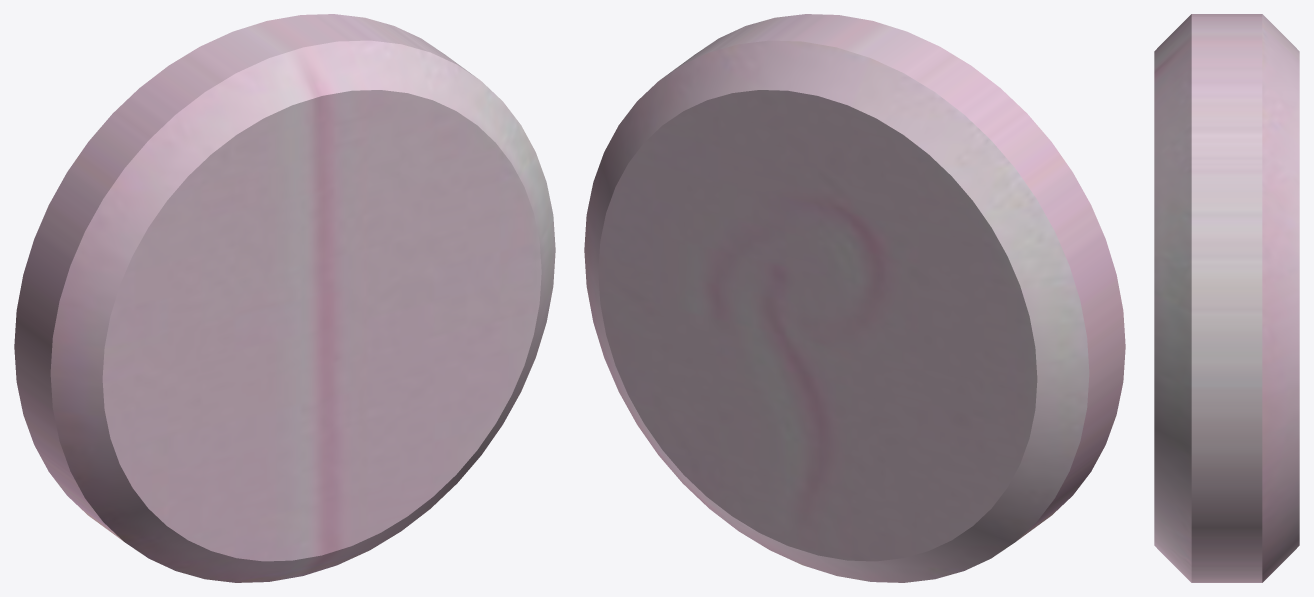
Rendered from 20140311GOPHDRGPT00779.fbx.
3 views of the same model, side by side, from view 1: azimuth 30°, elevation 25°; view 2: azimuth 150°, elevation 25°; view 3: azimuth 270°, elevation 25° (orthographic). The views are drawn at different scales.
Visible parts, largest first — view 1: BezierCircle; view 2: BezierCircle; view 3: BezierCircle.
Boxes of the visible parts, bbox=[...] form: BezierCircle: bbox=[14, 14, 555, 582]; BezierCircle: bbox=[584, 14, 1125, 582]; BezierCircle: bbox=[1154, 14, 1299, 582].
Bounding box in the file's own units: 0.7426 × 0.7426 × 0.1891.
Materials: 1 (1 with a texture image).
